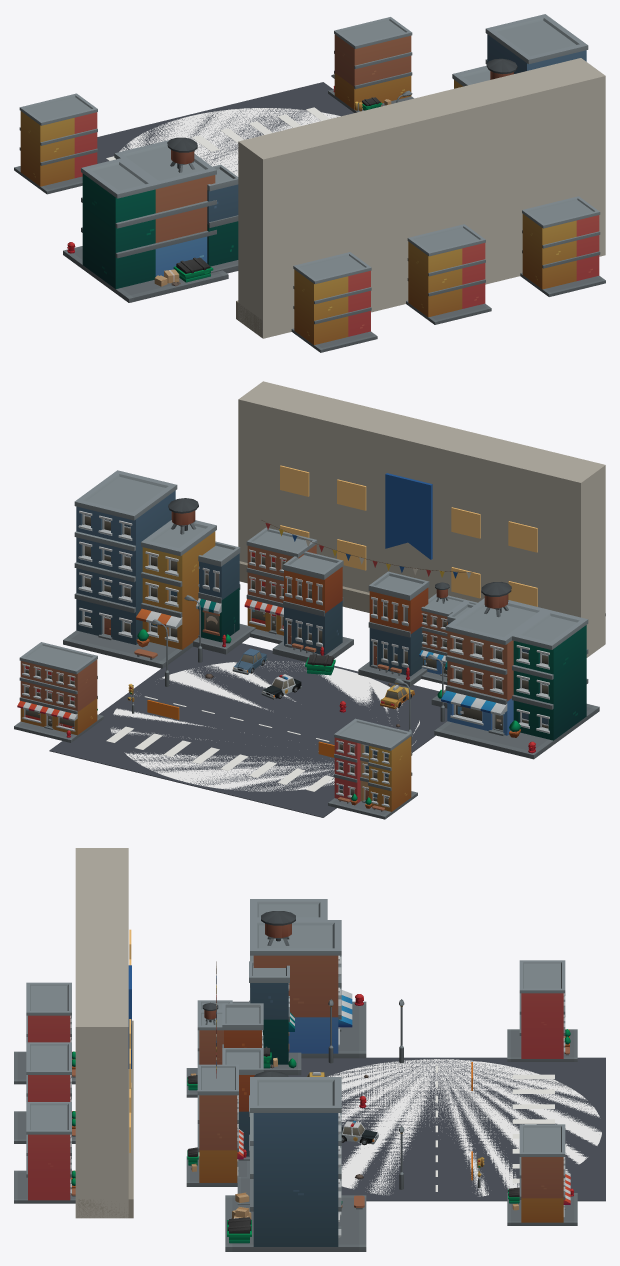
The model's file is arena.fbx.
3 renders of one model, top to bottom at view 1: azimuth 30°, elevation 25°; view 2: azimuth 150°, elevation 25°; view 3: azimuth 270°, elevation 25°, orthographic. The views are drawn at different scales.
Parts seen in each view (by area): view 1: arena_backdrop, arena_floor, Col_Ground; view 2: arena_backdrop, arena_floor, Col_Ground; view 3: arena_backdrop, arena_floor, Col_Ground.
Boxes of the visible parts, x1,y1,x2,y2 form: arena_backdrop: (14,14,605,352); arena_floor: (97,82,353,171); Col_Ground: (119,108,340,176); arena_backdrop: (14,381,605,819); arena_floor: (49,643,447,817); Col_Ground: (110,661,419,791); arena_backdrop: (14,848,577,1251); arena_floor: (288,1057,605,1201); Col_Ground: (327,1059,601,1196).
Size of what is drawn, in the model's own units: 33 by 12.04 by 33.6.
